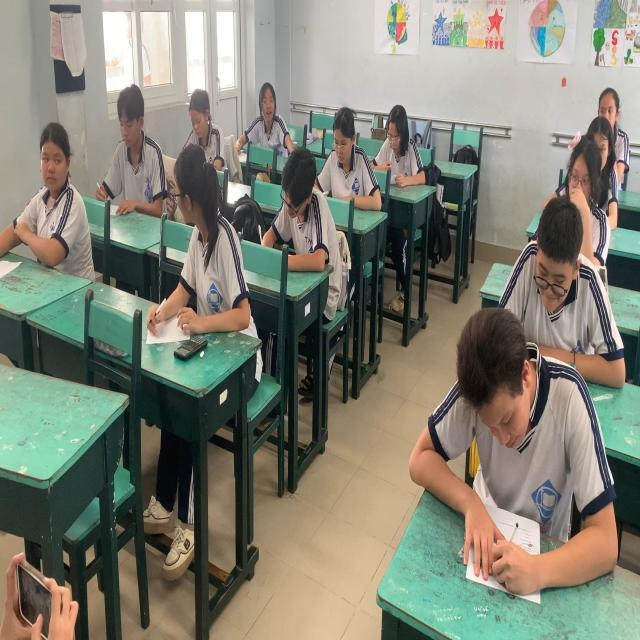cheating: (152, 141, 241, 355), (20, 115, 92, 282), (250, 74, 287, 149)
not_cheating: (426, 304, 585, 507), (508, 204, 606, 348), (264, 144, 331, 284), (95, 83, 163, 214), (560, 131, 614, 235), (314, 96, 364, 208), (376, 100, 417, 194), (177, 83, 225, 160), (591, 84, 629, 153)
